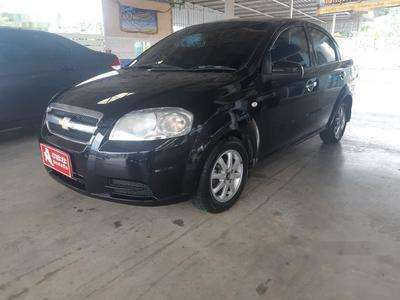sedan: (40, 16, 361, 215)
